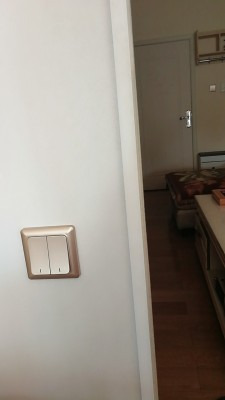switch: (48, 240, 67, 275), (29, 238, 45, 272)
